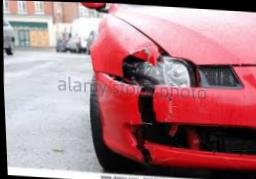Bumper: (94, 79, 177, 161)
Fender: (96, 23, 152, 66)
Light: (125, 57, 194, 86)
